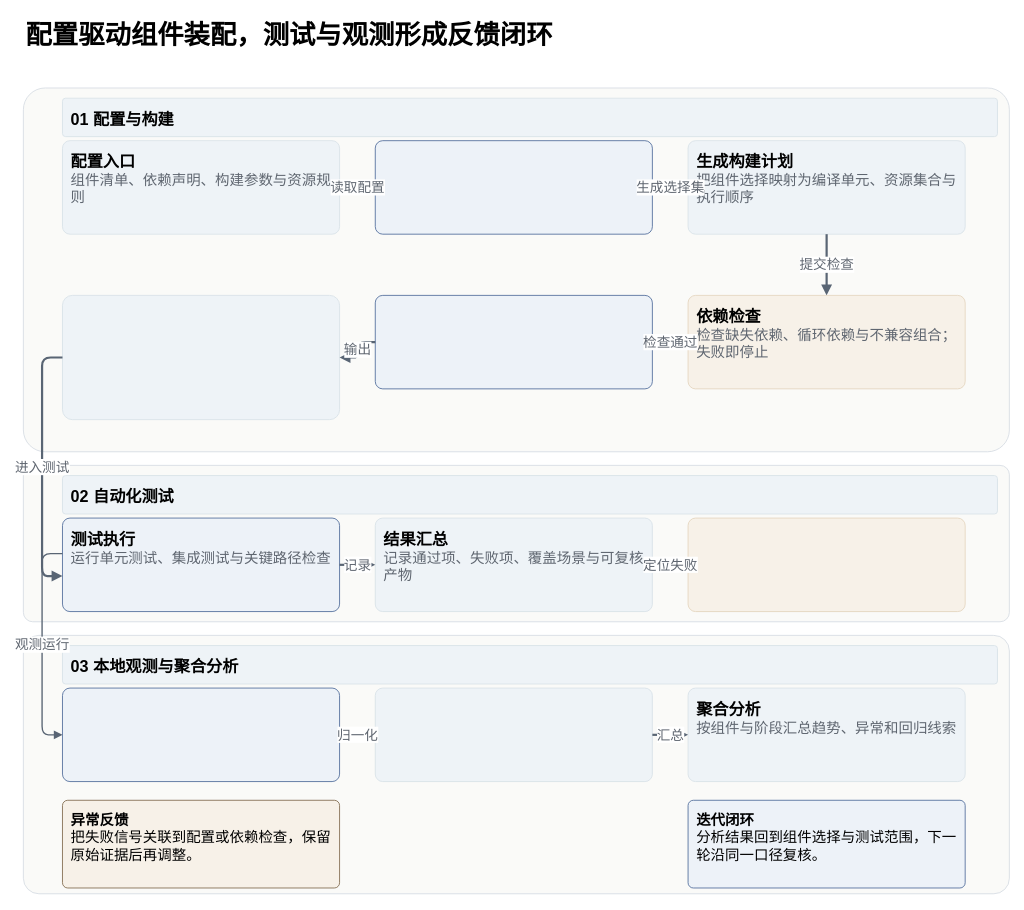
Some shapes in this 1024 by 910 pixel diagram are drawn without their labels. The shapes that lost their labels are listed below. From the top down, each one's centre as x and y in pixels, then its label:
At pixel 513 187: "配置选择组件 按目标环境与功能集合选择需要装配的组件".
At pixel 201 357: "构建产物 输出可运行包与构建清单；保留共享运行时和基础资源 运行时 · 共享接口 · 基础资源".
At pixel 513 342: "执行构建 按计划完成编译、链接与资源处理，并保留诊断日志".
At pixel 826 564: "失败诊断 关联配置、依赖与构建日志，形成下一轮修正输入".
At pixel 201 734: "本地观测 采集构建日志、测试结果、运行日志与性能信号".
At pixel 513 734: "信号整理 统一事件结构，关联配置、构建和测试批次".
